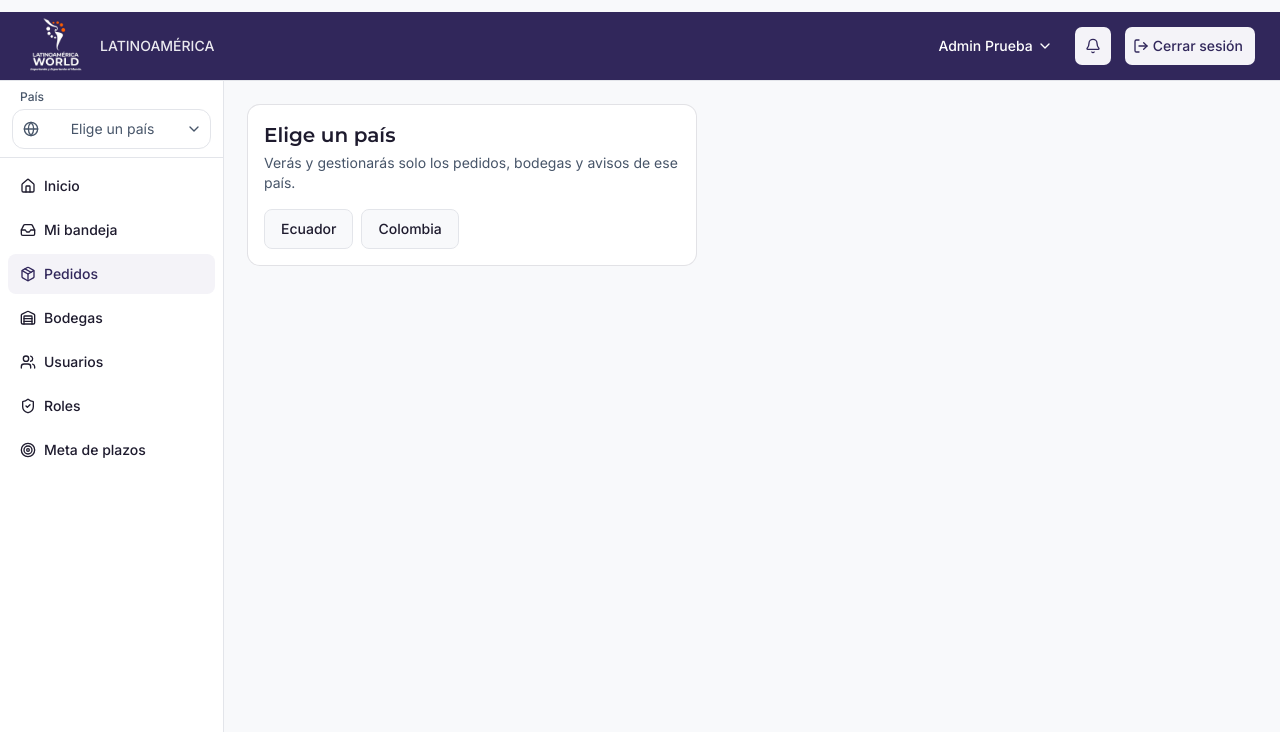
Test: 7.B1 país vigente: comportamiento frontend con API simulada explícita › cancela la lectura anterior y una respuesta tardía no repuebla la lista ni la caché
This screenshot has width=1280, height=732.
What coordinates should you click on to do the following:
click the button "Ecuador"
I would click on:
 (309, 229)
Its box is [264,209,353,249].
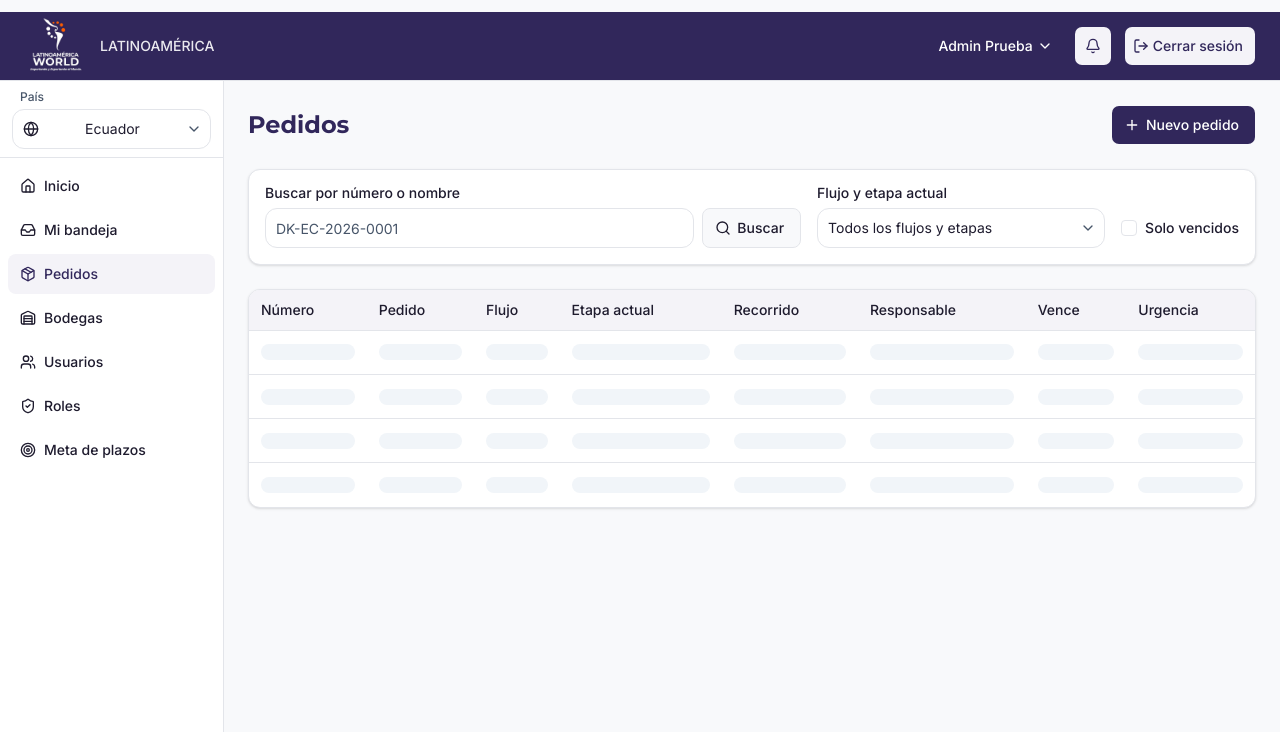
What coordinates should you click on to do the following:
click the dropdown named "País"
I would click on:
 (112, 129)
Its box is [12,109,211,149].
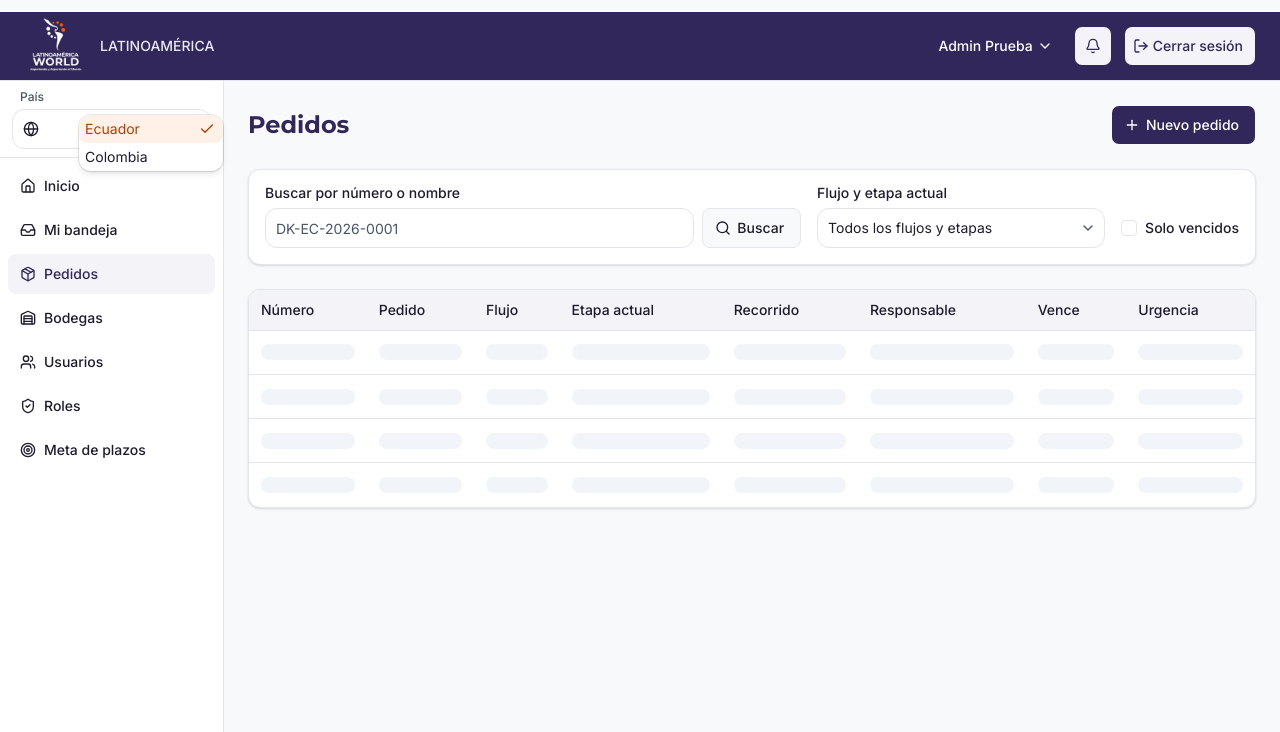
What coordinates should you click on to do the following:
click the option "Colombia"
I would click on:
 (116, 156)
Its box is [85,148,148,165].
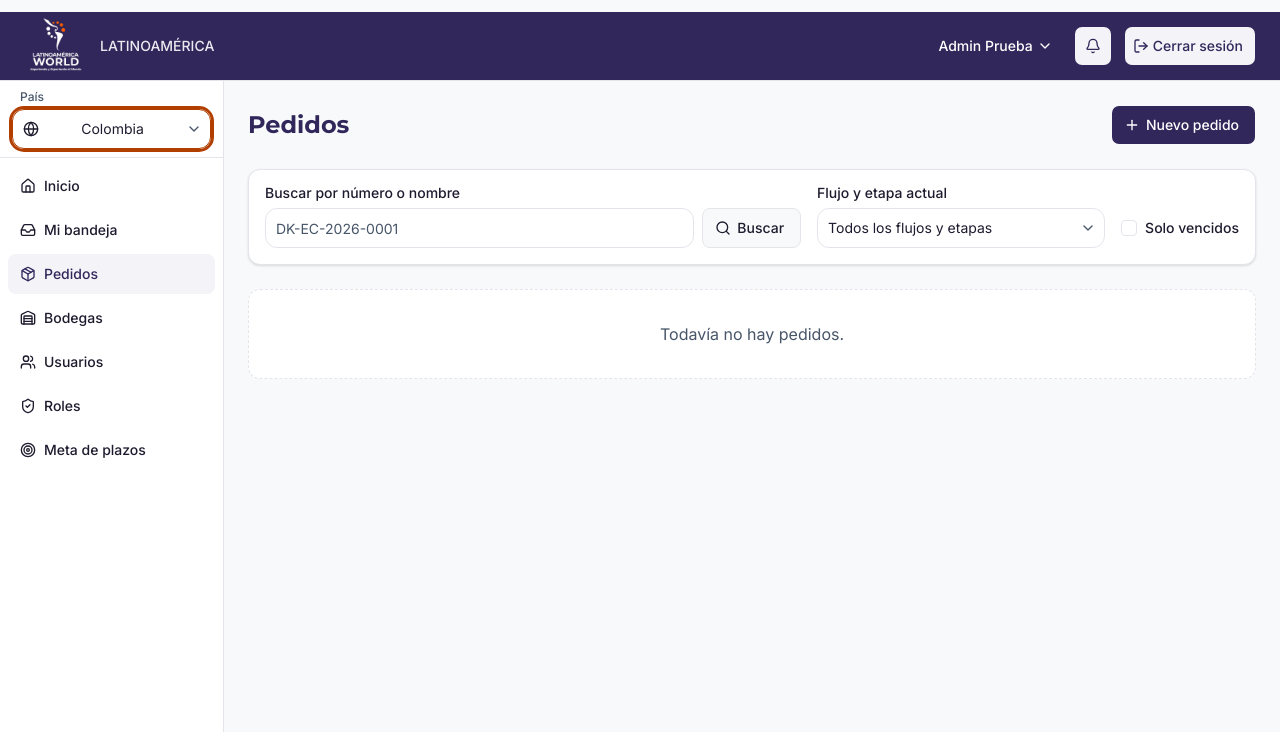
Expected: the text "Todavía no hay pedidos." is shown, [660,324,844,344]
